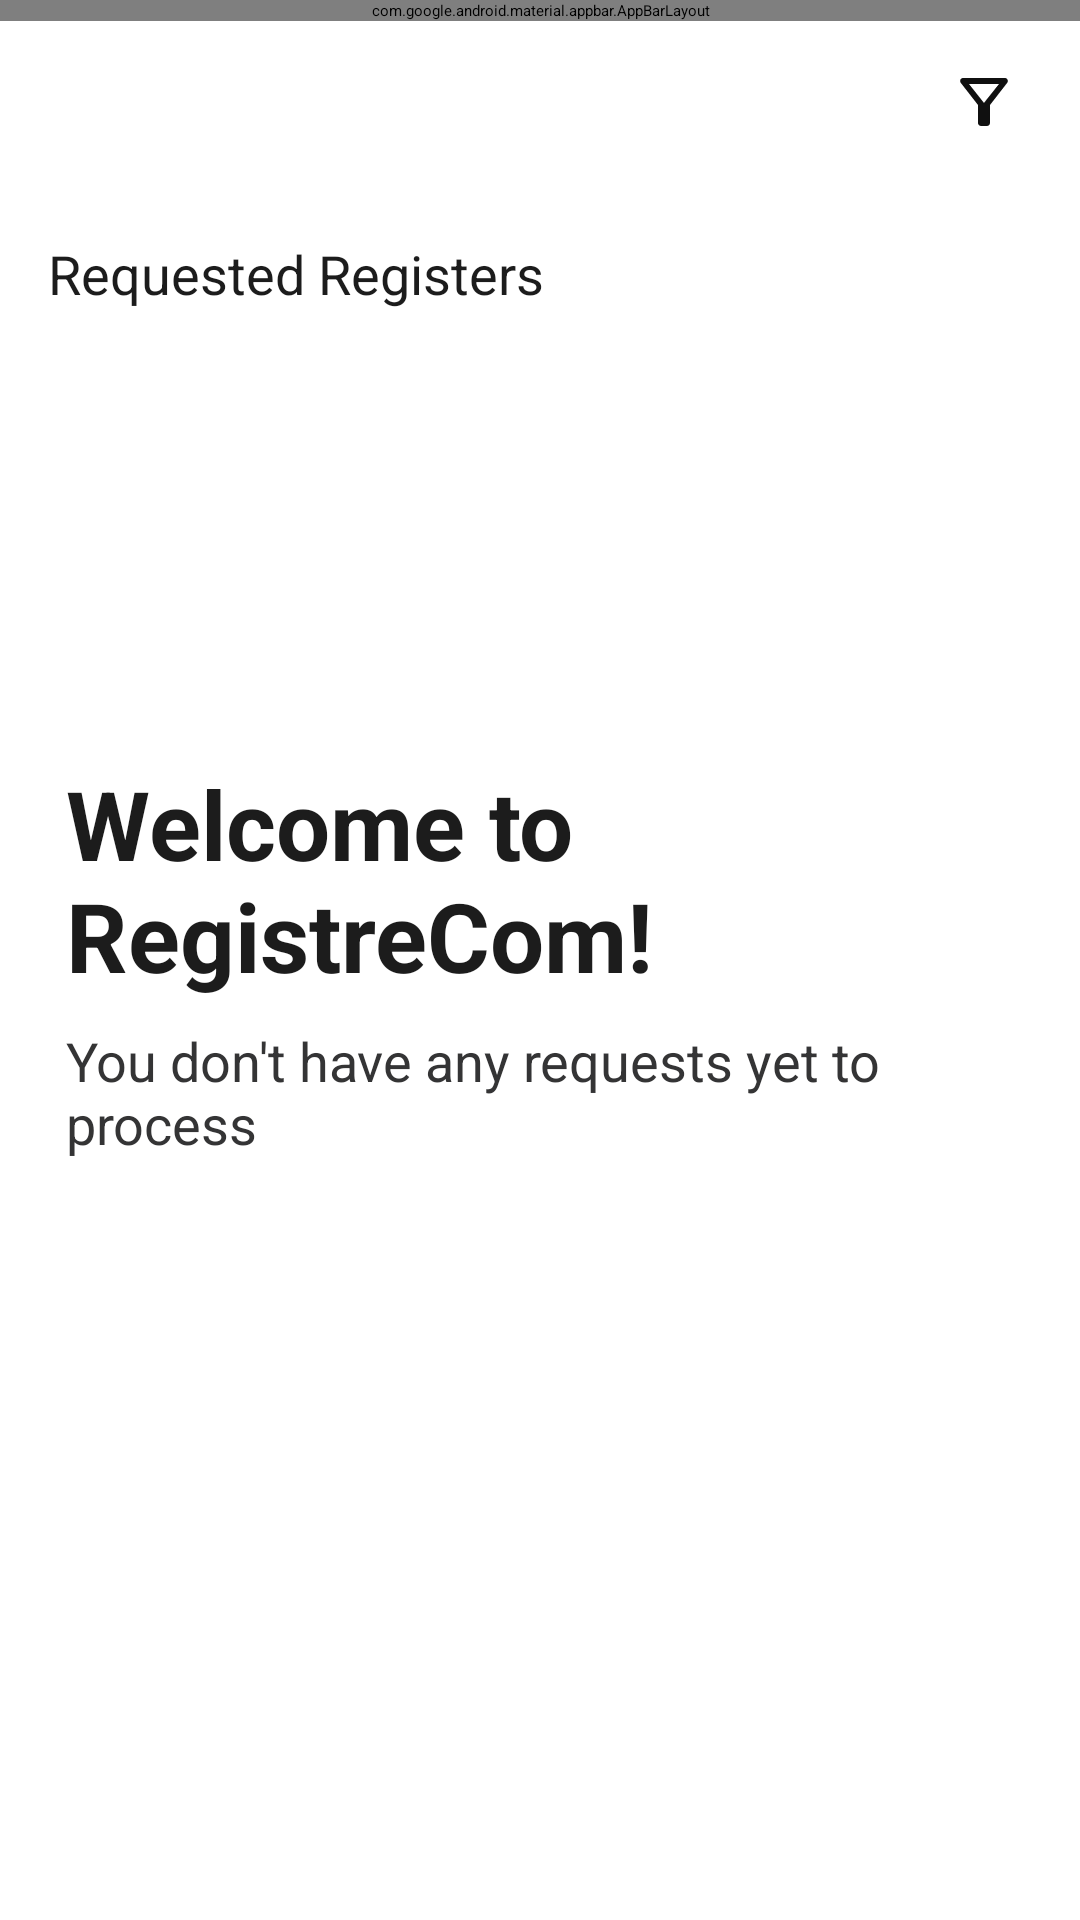

Point at icon controls on the screen. Image size 1080px x 1920px, points as point (x, y).
filter: point (984, 102)
